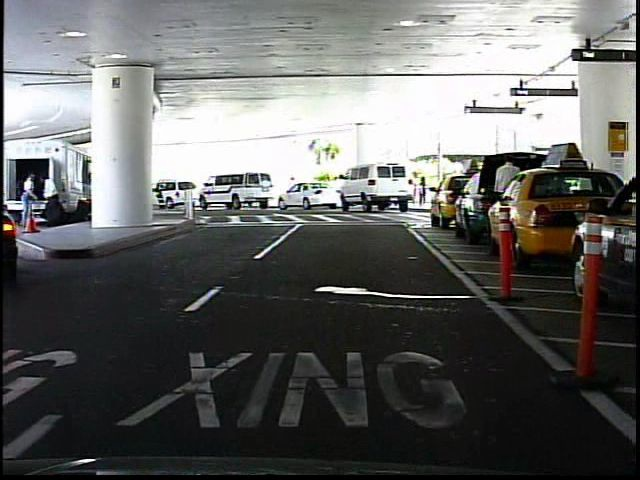person: (488, 152, 523, 244), (285, 173, 301, 204), (415, 175, 430, 207)
